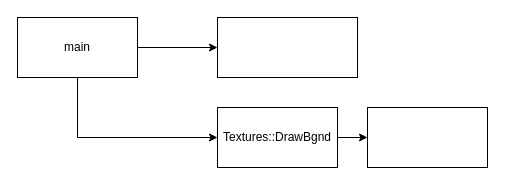
Image size: 505x185. Some labels were removed from this diagram. The centre of each missing label's shape, as x and y in pixels:
"Textures::LoadTextures" goes at [287,47].
"Textures::ScrollBgnd" goes at [427,137].
